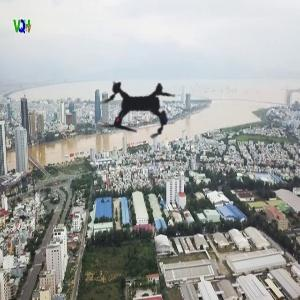drone: (75, 49, 201, 175)
